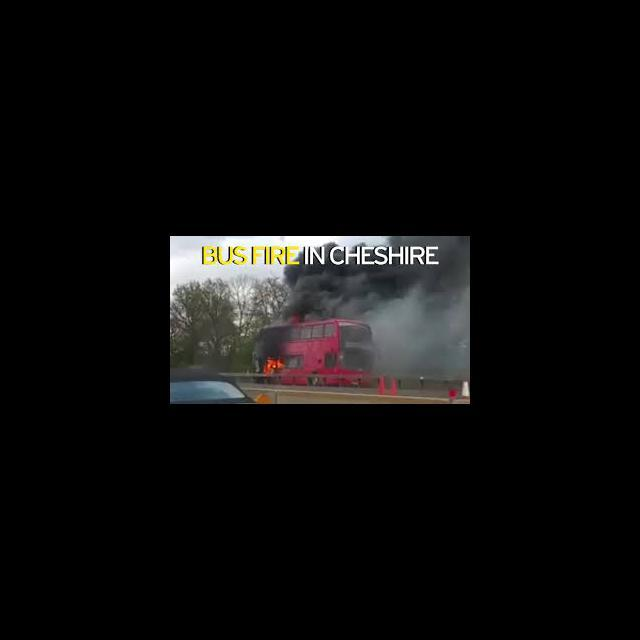Fire: (260, 356, 284, 374)
Smoke: (285, 239, 469, 378)
